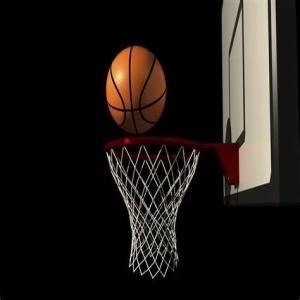Basket: (107, 44, 167, 134)
